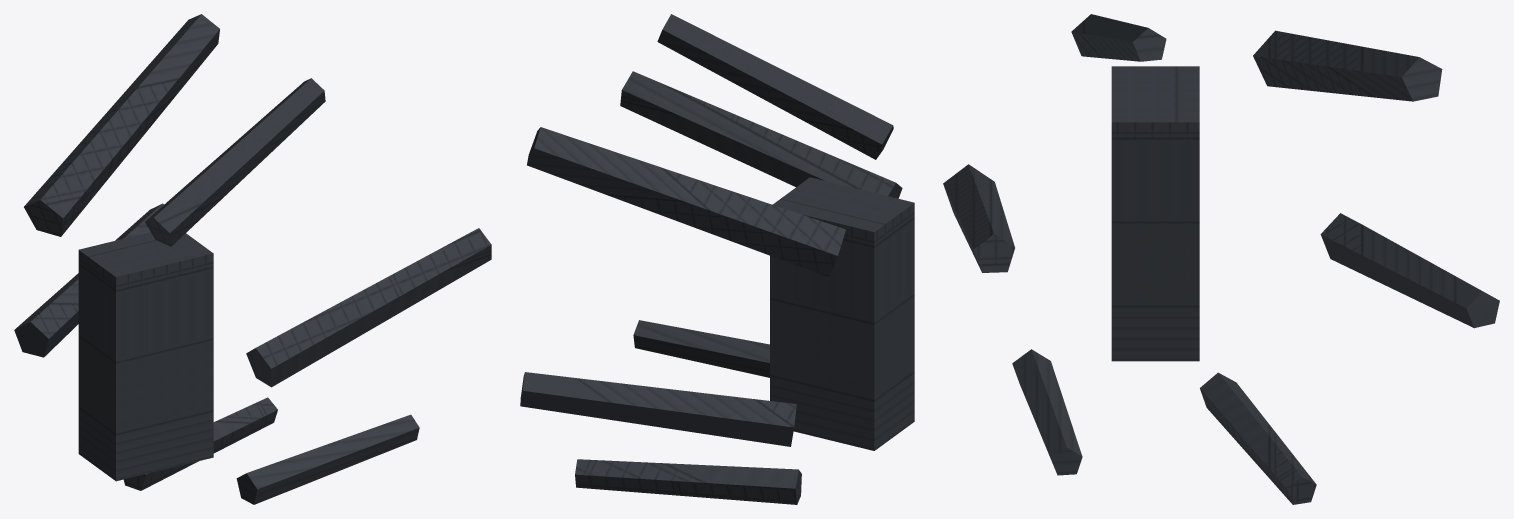
File: frag_rib_cluster.glb
3 renders of one model, left to right at view 1: azimuth 30°, elevation 25°; view 2: azimuth 150°, elevation 25°; view 3: azimuth 270°, elevation 25°, orthographic. The views are drawn at different scales.
Visible parts, largest first — view 1: ribHub, ribFan_rib2, ribFan_rib4, ribFan_rib3, ribFan_rib5, ribFan_rib1, ribFan_rib0; view 2: ribHub, ribFan_rib2, ribFan_rib1, ribFan_rib4, ribFan_rib3, ribFan_rib0, ribFan_rib5; view 3: ribHub, ribFan_rib2, ribFan_rib1, ribFan_rib0, ribFan_rib4, ribFan_rib5, ribFan_rib3.
Part boxes in pixels (x1,y1,x2,y2): ribHub: [78, 232, 213, 481]; ribFan_rib2: [24, 14, 219, 236]; ribFan_rib4: [246, 228, 491, 387]; ribFan_rib3: [145, 78, 325, 246]; ribFan_rib5: [236, 414, 419, 504]; ribFan_rib1: [14, 203, 163, 357]; ribFan_rib0: [123, 397, 277, 490]; ribHub: [770, 177, 914, 450]; ribFan_rib2: [527, 127, 845, 277]; ribFan_rib1: [520, 372, 796, 446]; ribFan_rib4: [620, 71, 902, 198]; ribFan_rib3: [657, 14, 893, 159]; ribFan_rib0: [575, 459, 801, 504]; ribFan_rib5: [633, 320, 769, 377]; ribHub: [1111, 66, 1199, 361]; ribFan_rib2: [1253, 30, 1442, 101]; ribFan_rib1: [1320, 213, 1499, 328]; ribFan_rib0: [1200, 372, 1316, 504]; ribFan_rib4: [943, 164, 1014, 272]; ribFan_rib5: [1012, 349, 1082, 475]; ribFan_rib3: [1071, 14, 1166, 61].
Size of the model in its own units: 4.82 by 5.51 by 6.
1 material, 1 textured.
